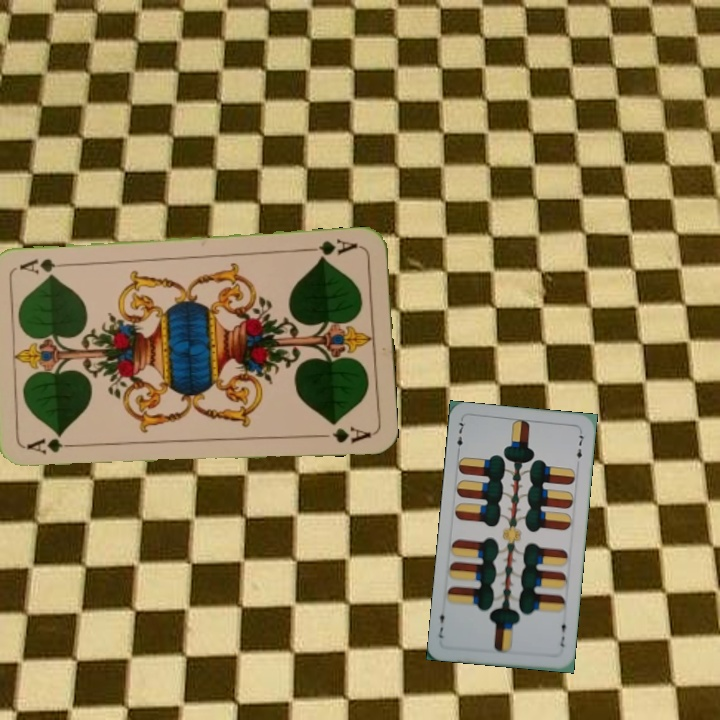E7: (453, 416, 468, 448), (556, 615, 569, 649)
GA: (304, 234, 363, 262), (23, 434, 82, 457)
